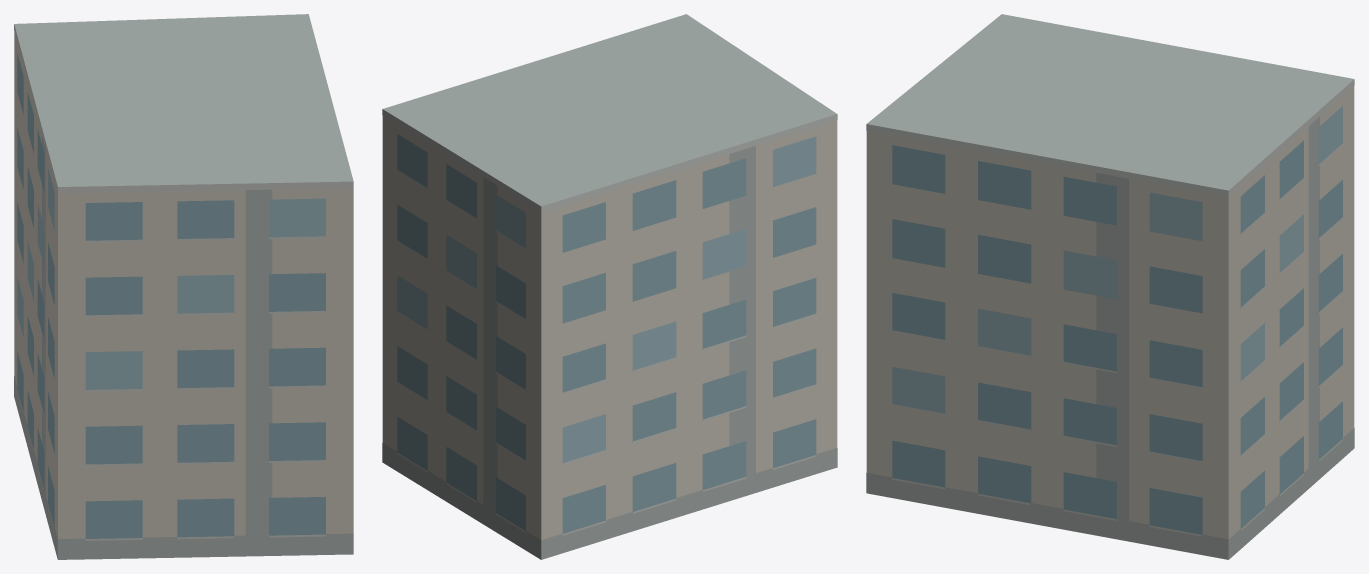
Rendered from survey-upis-32788662.glb.
3 renders of one model, left to right at view 1: azimuth 30°, elevation 25°; view 2: azimuth 150°, elevation 25°; view 3: azimuth 270°, elevation 25°, orthographic. The views are drawn at different scales.
Parts seen in each view (by area): view 1: survey-upis-32788662.tmp; view 2: survey-upis-32788662.tmp; view 3: survey-upis-32788662.tmp.
Part boxes in pixels (box(x1,y1,x2,y2)): survey-upis-32788662.tmp: box(14, 14, 353, 559); survey-upis-32788662.tmp: box(382, 14, 837, 559); survey-upis-32788662.tmp: box(866, 14, 1354, 559).
Size of the model in its own units: 14.16 by 13.8 by 16.54.
